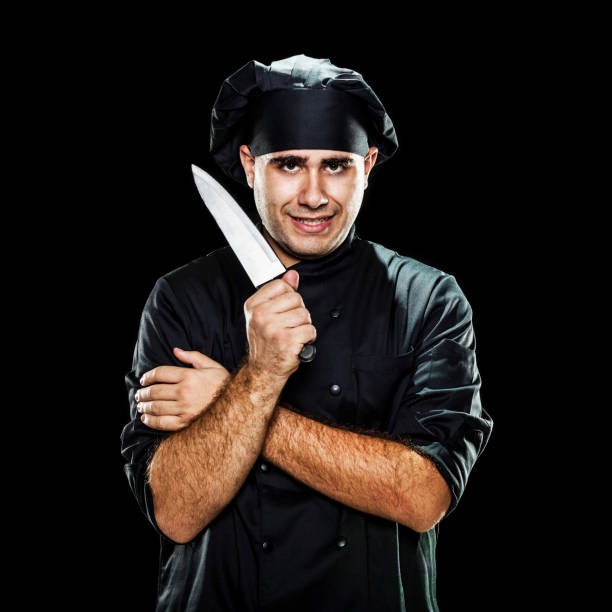knife: (192, 164, 319, 363)
